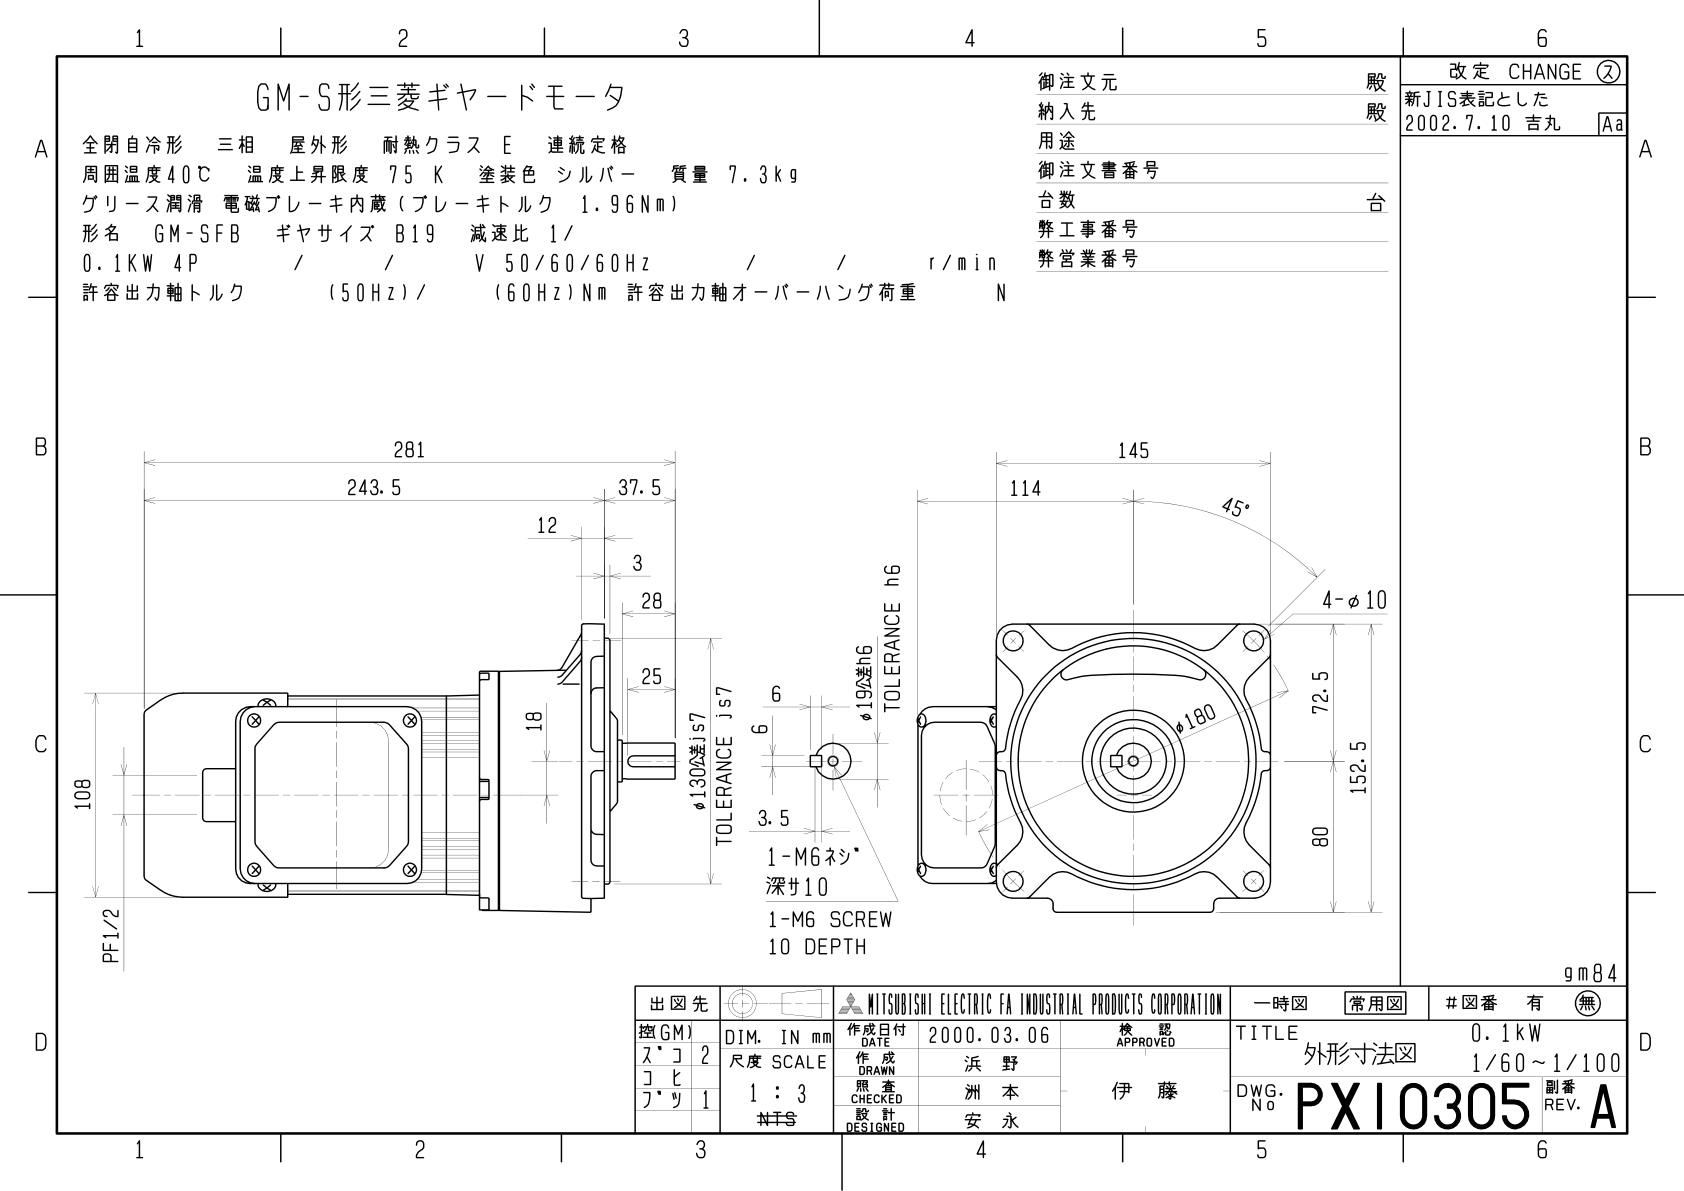GM_S_屋外＿三相_フランジ: (64, 385, 1399, 973)
